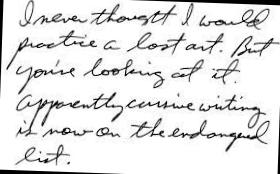text: (4, 23, 280, 79), (14, 84, 267, 136), (14, 48, 241, 102), (13, 109, 270, 153), (17, 0, 270, 36), (13, 142, 72, 168)
